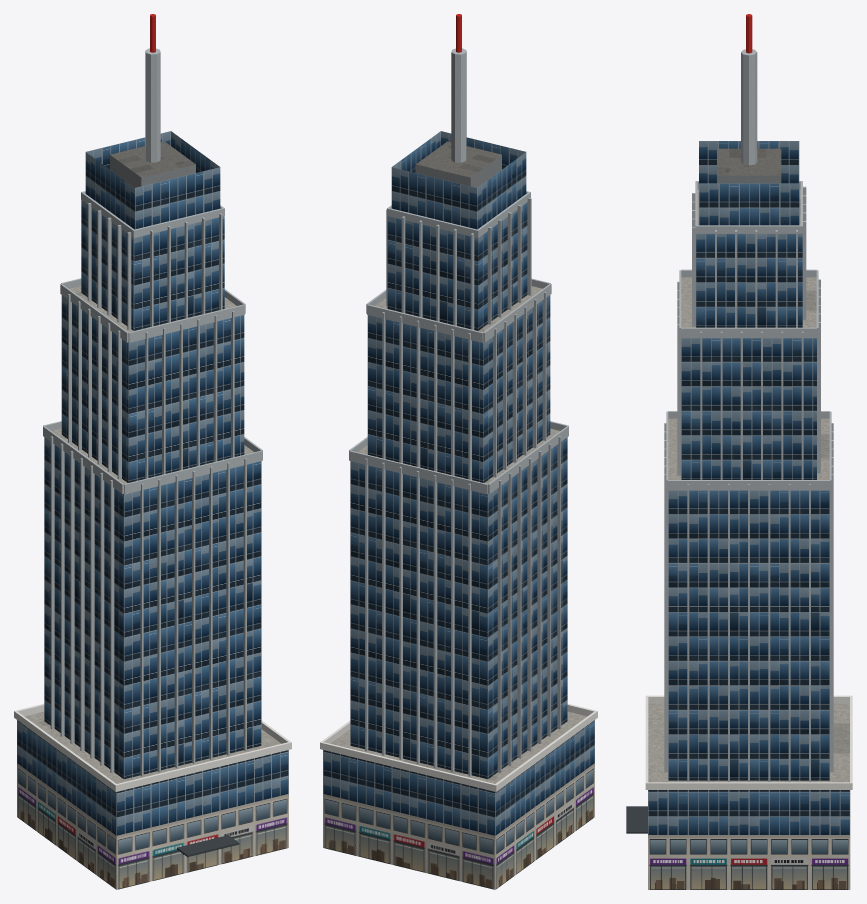
The model's file is OW_CaoOc_VP_VayDoc_104.fbx.
3 renders of one model, left to right at view 1: azimuth 30°, elevation 25°; view 2: azimuth 150°, elevation 25°; view 3: azimuth 270°, elevation 25°, orthographic.
Parts seen in each view (by area): view 1: OW_CaoOc_VP_VayDoc_104_LOD0; view 2: OW_CaoOc_VP_VayDoc_104_LOD0; view 3: OW_CaoOc_VP_VayDoc_104_LOD0.
Boxes of the visible parts, x1,y1,x2,y2 form: OW_CaoOc_VP_VayDoc_104_LOD0: [14, 14, 291, 889]; OW_CaoOc_VP_VayDoc_104_LOD0: [320, 14, 597, 889]; OW_CaoOc_VP_VayDoc_104_LOD0: [626, 14, 852, 889].
Size of what is drawn, in the model's own units: 30.7 by 136 by 33.55.
